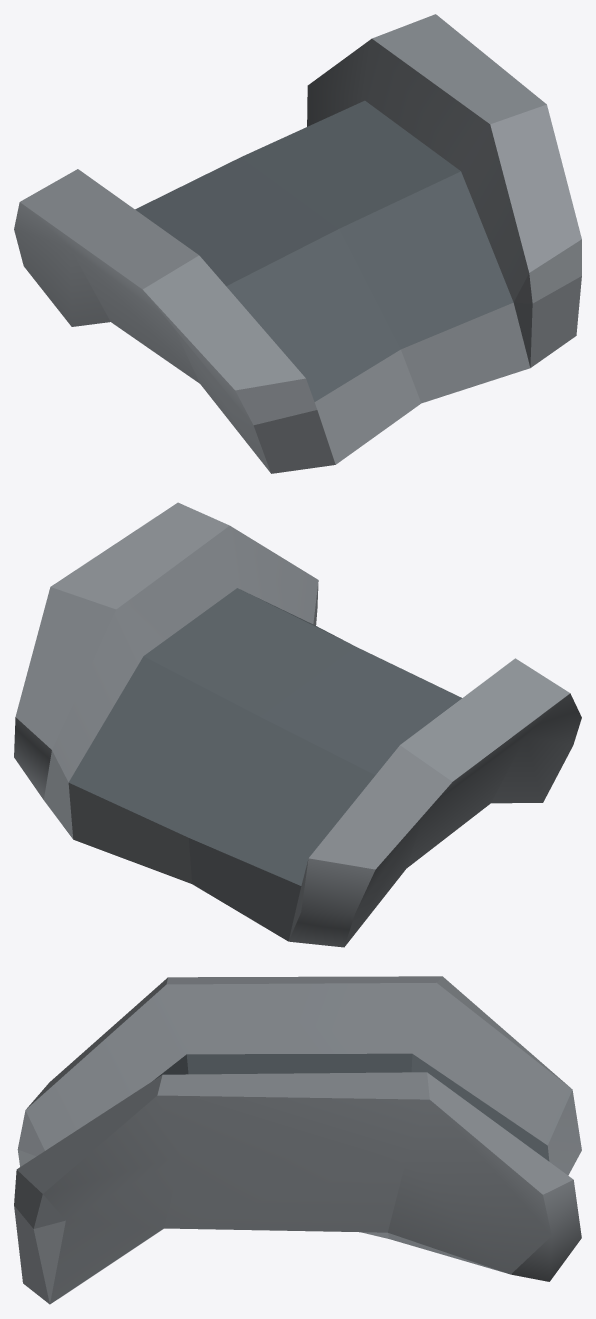
The model's file is Chr_ShoulderAttachRight_04_Static.fbx.
3 views of the same model, one above another, from view 1: azimuth 30°, elevation 25°; view 2: azimuth 150°, elevation 25°; view 3: azimuth 270°, elevation 25° (orthographic). The views are drawn at different scales.
Visible parts, largest first — view 1: Chr_ShoulderAttachRight_04_Static; view 2: Chr_ShoulderAttachRight_04_Static; view 3: Chr_ShoulderAttachRight_04_Static.
Part boxes in pixels (left/top/right/bottom): Chr_ShoulderAttachRight_04_Static: left=14, top=14, right=581, bottom=473; Chr_ShoulderAttachRight_04_Static: left=14, top=502, right=581, bottom=947; Chr_ShoulderAttachRight_04_Static: left=14, top=976, right=581, bottom=1304.
Size of the model in its own units: 0.2144 by 0.1277 by 0.224.
